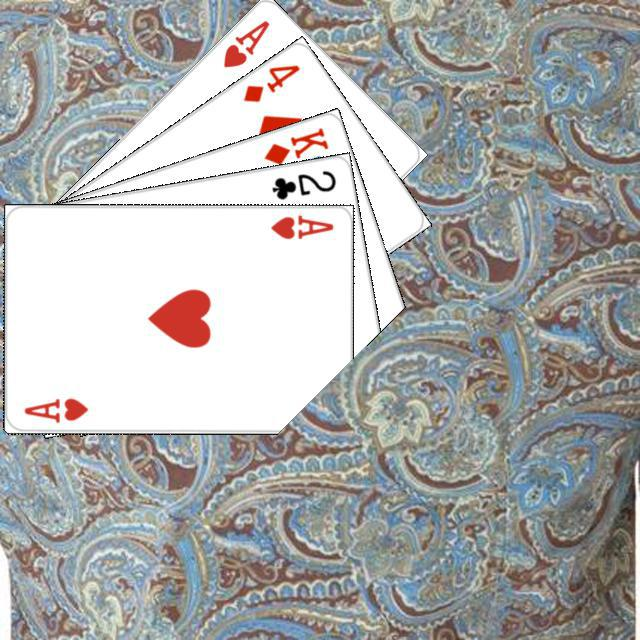2c: (266, 165, 338, 202)
4d: (238, 59, 302, 105)
Ah: (218, 15, 271, 70), (19, 393, 89, 425), (266, 210, 336, 240)
Kd: (259, 122, 331, 167)
